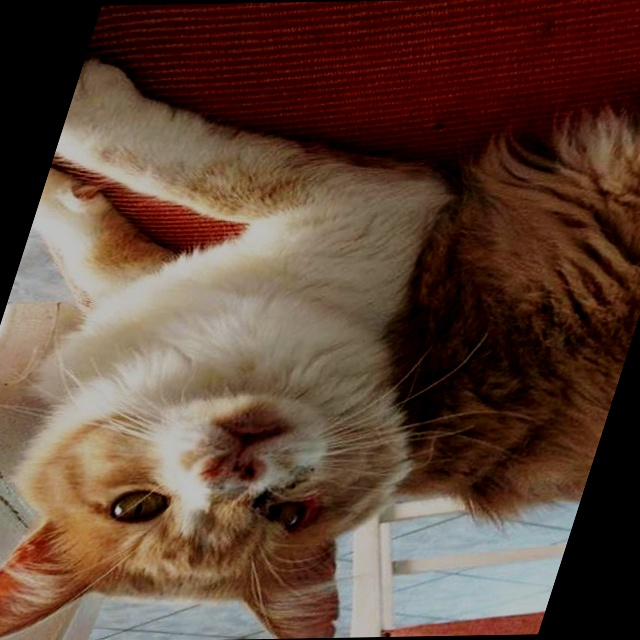eye_infection: (255, 494, 321, 540)
